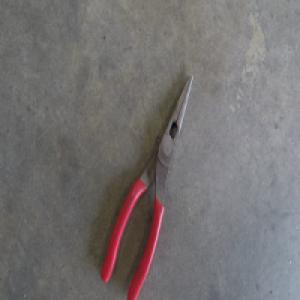Pliers: (101, 75, 192, 295)
